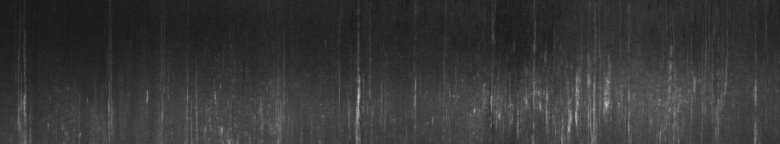ka: (339, 34, 757, 136)
